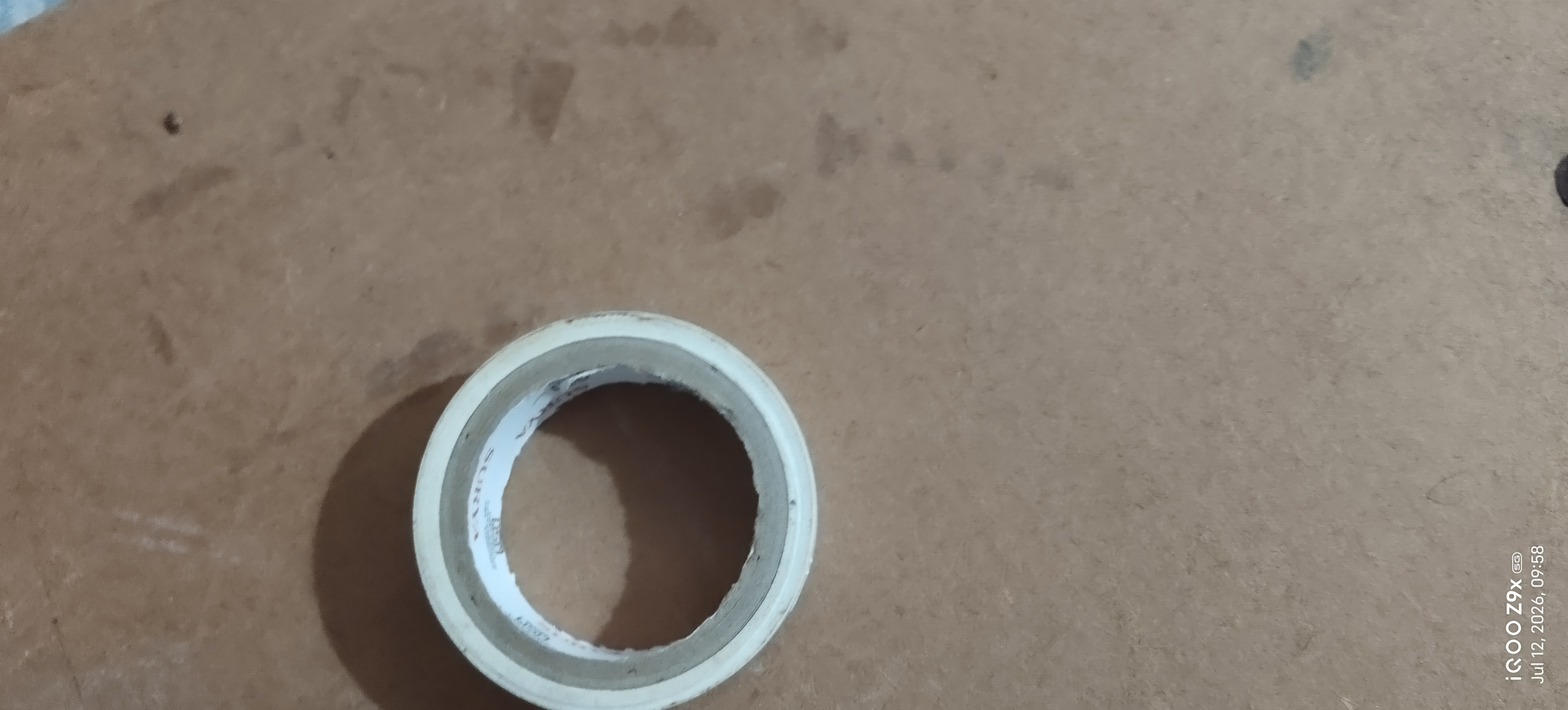tape_roll: (372, 301, 857, 710)
